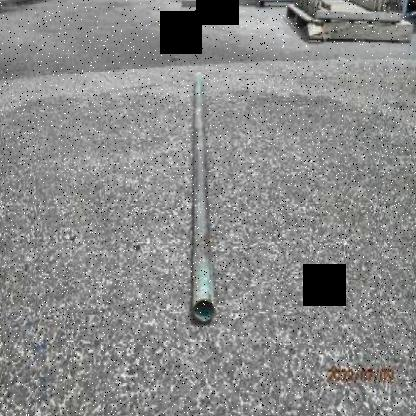pipe: (193, 299, 215, 323)
